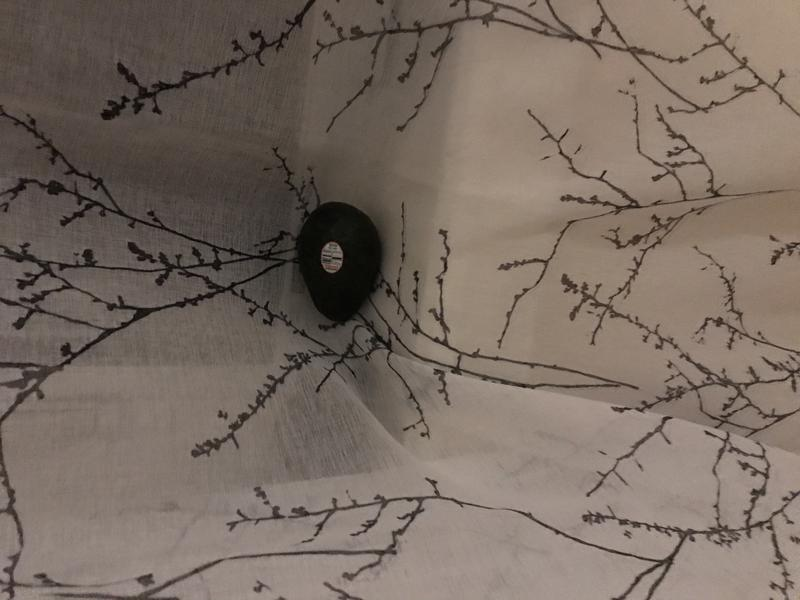avacado: (294, 196, 385, 329)
